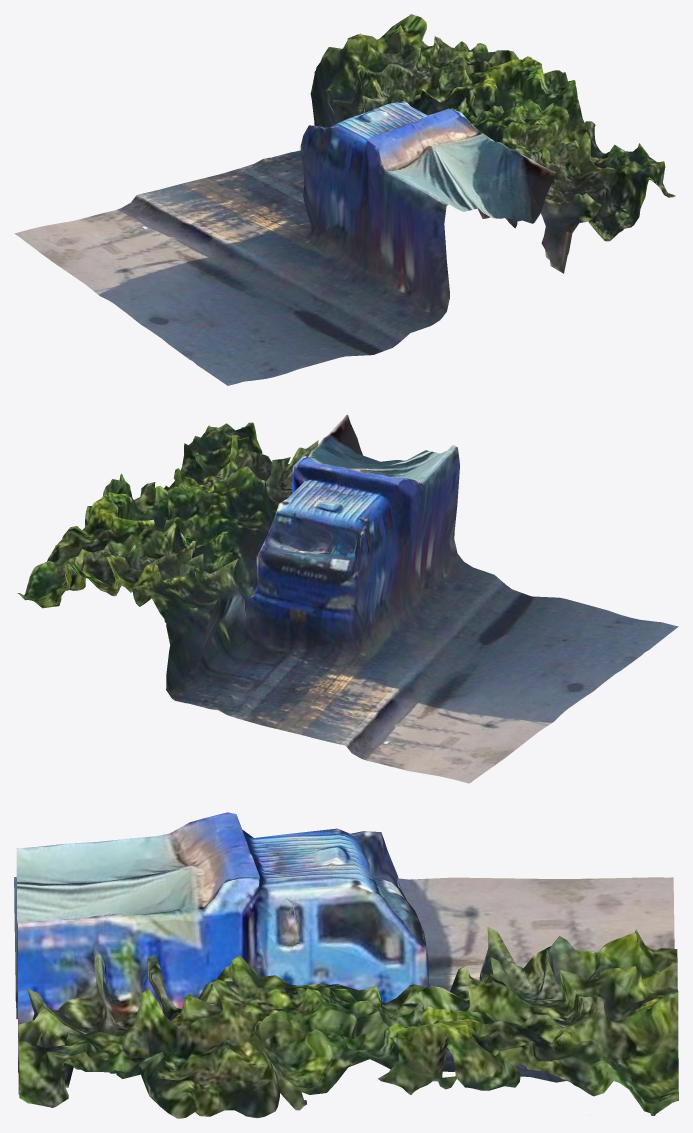
Rendered from Tile_+006_+007_L22_0001310.glb.
The picture shows the model from 3 angles, top to bottom: view 1: azimuth 30°, elevation 25°; view 2: azimuth 150°, elevation 25°; view 3: azimuth 270°, elevation 25°; orthographic projection. The views are drawn at different scales.
Visible parts, largest first — view 1: rtc; view 2: rtc; view 3: rtc.
Part boxes in pixels (x1=…): rtc: x1=14, y1=14, x2=675, y2=385; rtc: x1=17, y1=414, x2=678, y2=783; rtc: x1=14, y1=812, x2=678, y2=1118.
Size of the model in its own units: 8.86 by 2.84 by 7.18.
Materials: 1 (1 with a texture image).
